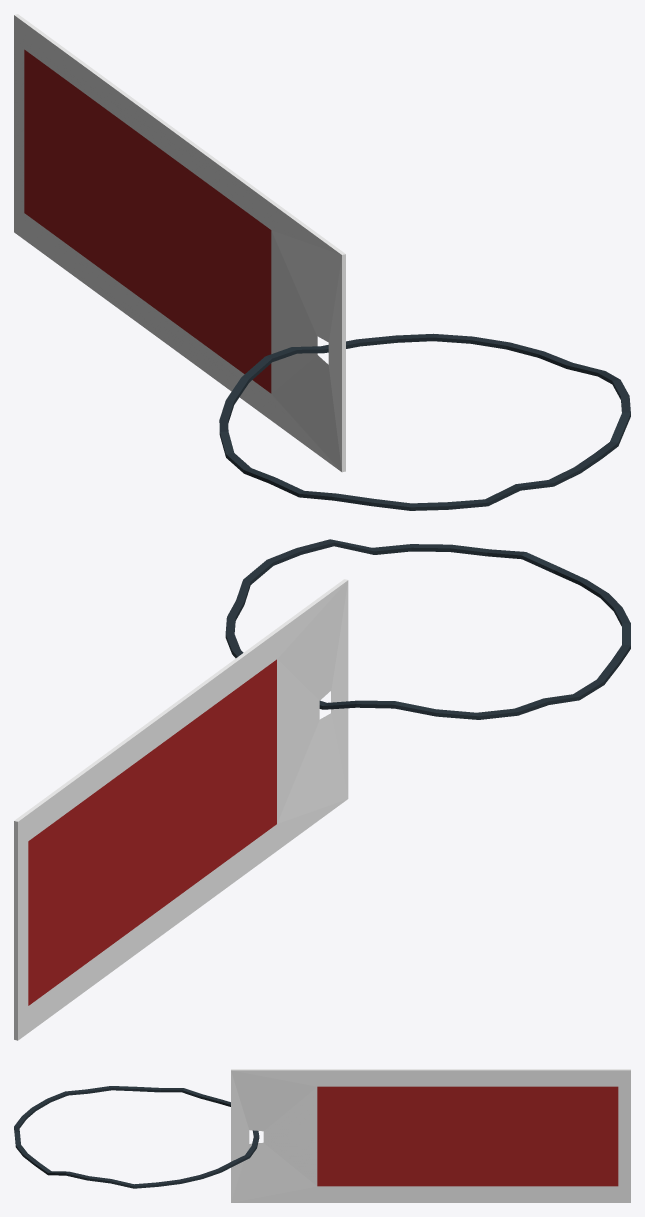
The model's file is RedRectangleTag.fbx.
3 views of the same model, one above another, from view 1: azimuth 30°, elevation 25°; view 2: azimuth 150°, elevation 25°; view 3: azimuth 270°, elevation 25° (orthographic). The views are drawn at different scales.
Parts seen in each view (by area): view 1: RectangleTag; view 2: RectangleTag; view 3: RectangleTag.
Boxes of the visible parts, x1=… form: RectangleTag: x1=14, y1=14, x2=630, y2=510; RectangleTag: x1=14, y1=539, x2=630, y2=1040; RectangleTag: x1=14, y1=1069, x2=630, y2=1202.
Size of the model in its own units: 55.34 by 31.91 by 135.
